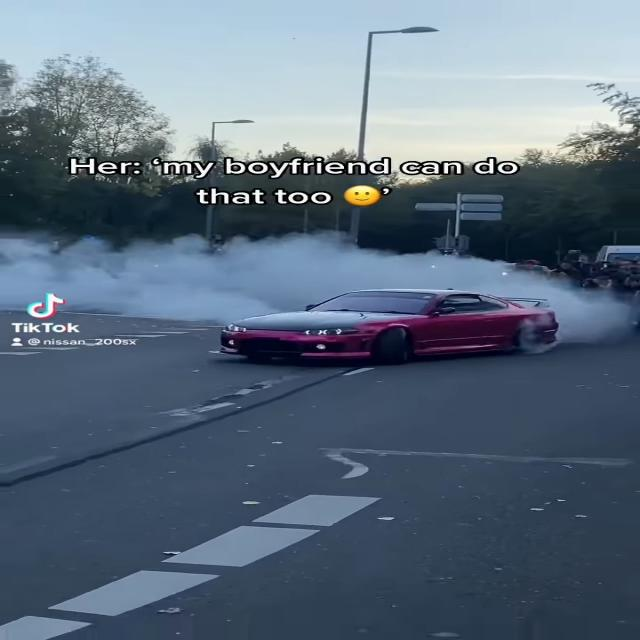car: (215, 289, 569, 365)
